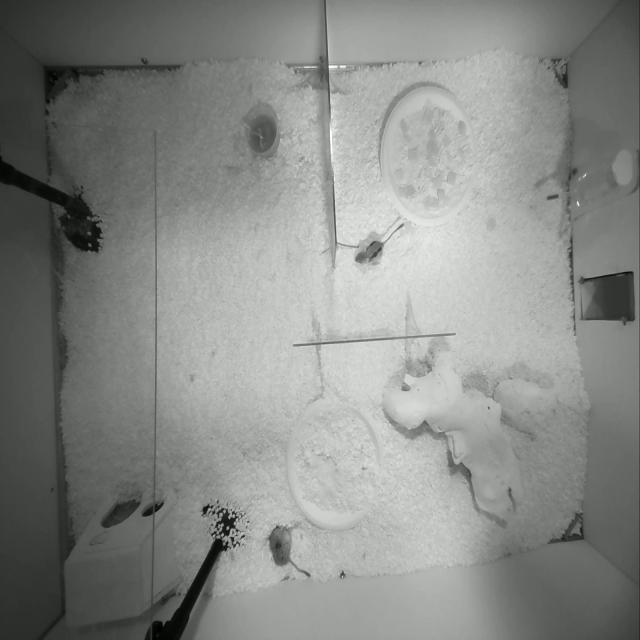pup_fluffy: (269, 526, 310, 576)
pup_v_stripe: (355, 240, 384, 263), (387, 224, 403, 240)
